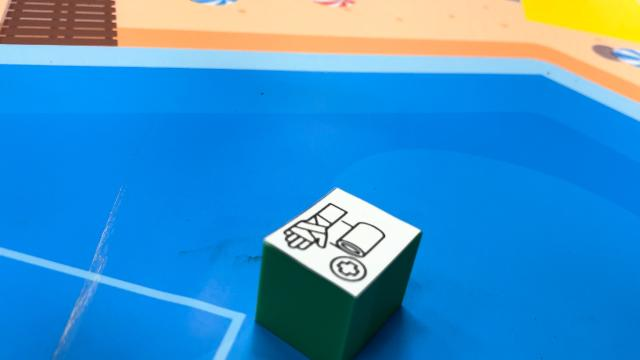bandage: (253, 185, 422, 358)
